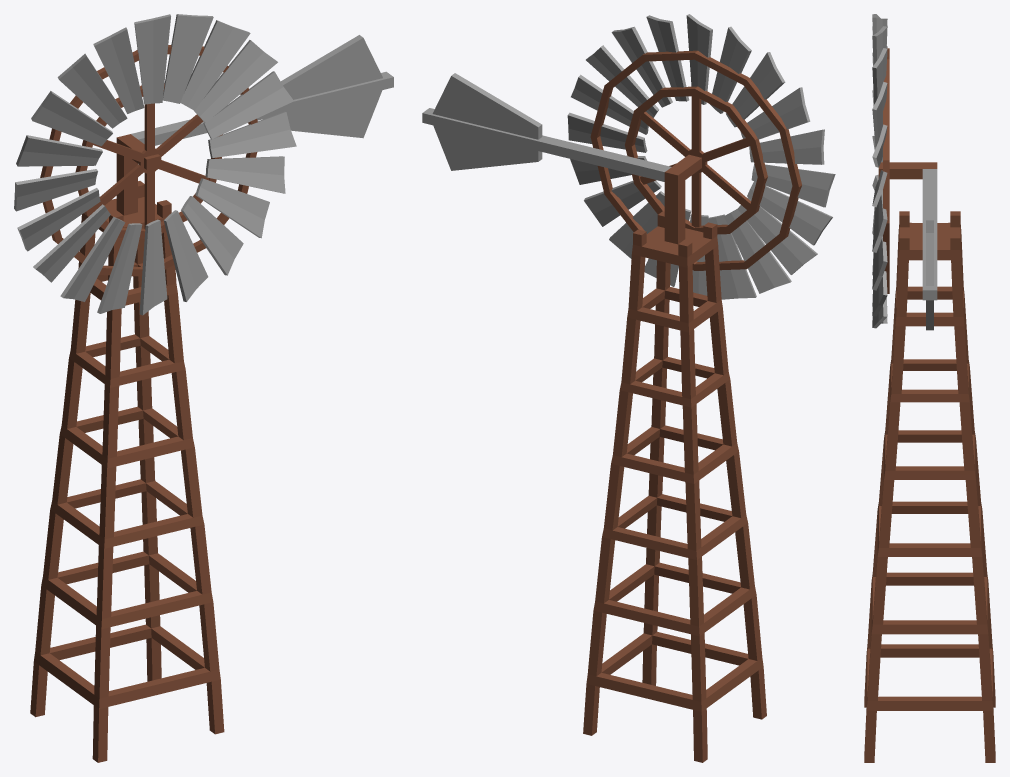
File: Windmill.glb
3 renders of one model, left to right at view 1: azimuth 30°, elevation 25°; view 2: azimuth 150°, elevation 25°; view 3: azimuth 270°, elevation 25°, orthographic. The views are drawn at different scales.
Parts seen in each view (by area): view 1: Grey, Brown; view 2: Brown, Grey; view 3: Brown, Grey.
Boxes of the visible parts, x1,y1,x2,y2 form: Grey: (14,14,393,315); Brown: (30,45,257,762); Brown: (583,50,801,762); Grey: (422,14,835,299); Brown: (864,48,995,762); Grey: (872,14,937,330).
Size of the model in its own units: 6.51 by 11.2 by 1.9.
